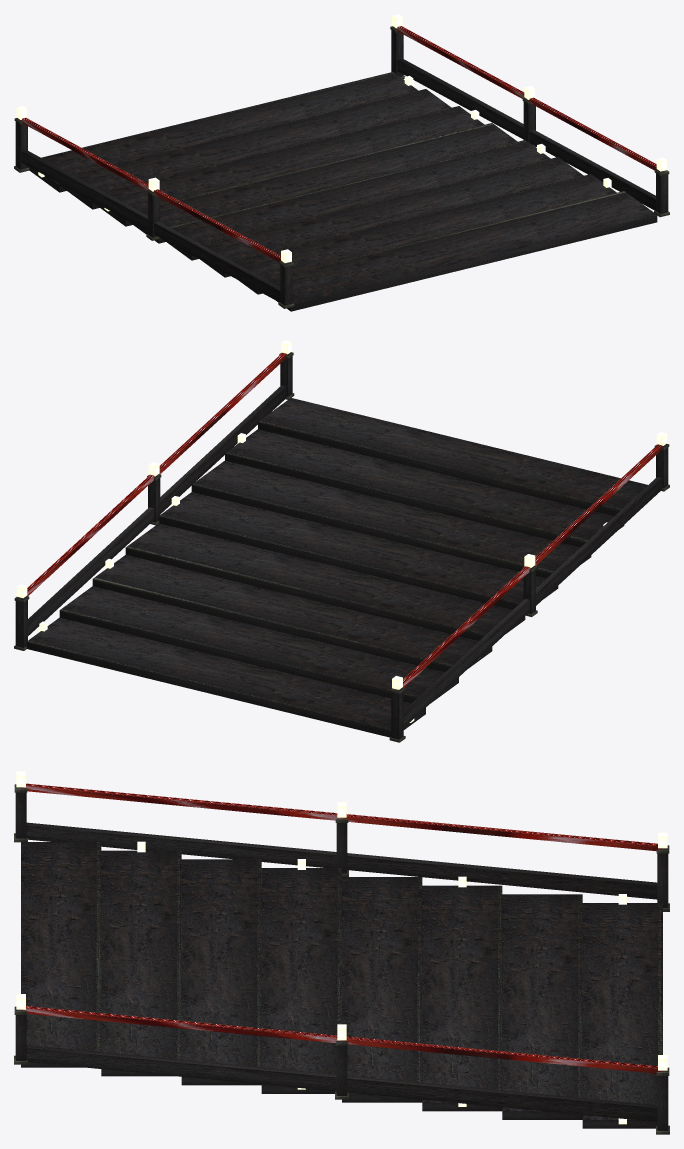
Rendered from nyanisyarud-hyakken-kaidan.glb.
The picture shows the model from 3 angles, top to bottom: view 1: azimuth 30°, elevation 25°; view 2: azimuth 150°, elevation 25°; view 3: azimuth 270°, elevation 25°; orthographic projection. The views are drawn at different scales.
Visible parts, largest first — view 1: step_7, step_1, step_5, step_0, step_4, step_6, step_2, step_3, stringer_-4.1, stringer_4.1, handrail_4.1, handrail_-4.1 (+8 smaller); view 2: step_0, step_7, step_6, step_3, step_2, step_5, step_1, step_4, stringer_-4.1, stringer_4.1, handrail_4.1, handrail_-4.1 (+8 smaller); view 3: step_5, step_6, step_1, step_2, step_4, step_3, step_7, step_0, stringer_4.1, stringer_-4.1, handrail_-4.1, handrail_4.1 (+12 smaller).
Boxes of the visible parts, box(x1,y1,x2,y2) form: step_7: box(265, 191, 657, 311); step_1: box(59, 89, 451, 209); step_5: box(201, 157, 583, 277); step_0: box(28, 72, 417, 192); step_4: box(163, 140, 550, 260); step_6: box(233, 174, 616, 294); step_2: box(92, 106, 484, 226); step_3: box(126, 123, 517, 243); stringer_-4.1: box(21, 150, 280, 301); stringer_4.1: box(397, 58, 655, 210); handrail_4.1: box(396, 26, 656, 170); handrail_-4.1: box(20, 117, 281, 261); step_0: box(26, 617, 425, 737); step_7: box(258, 398, 647, 515); step_6: box(225, 429, 624, 547); step_3: box(125, 523, 525, 640); step_2: box(92, 555, 492, 671); step_5: box(191, 460, 591, 578); step_1: box(59, 586, 458, 703); step_4: box(158, 492, 558, 609); stringer_-4.1: box(403, 477, 662, 727); stringer_4.1: box(28, 385, 286, 635); handrail_4.1: box(24, 352, 287, 597); handrail_-4.1: box(402, 444, 662, 687); step_5: box(181, 859, 261, 1085); step_6: box(101, 850, 181, 1076); step_1: box(502, 894, 582, 1119); step_2: box(422, 885, 502, 1111); step_4: box(261, 868, 341, 1093); step_3: box(342, 877, 422, 1102); step_7: box(21, 842, 101, 1067); step_0: box(582, 903, 662, 1128); stringer_4.1: box(26, 1045, 657, 1121); stringer_-4.1: box(26, 822, 657, 899); handrail_-4.1: box(21, 783, 662, 851); handrail_4.1: box(21, 1006, 662, 1073).
Size of the model in its own units: 8.42 by 2.33 by 10.22.
Materials: 4 (4 with a texture image).
